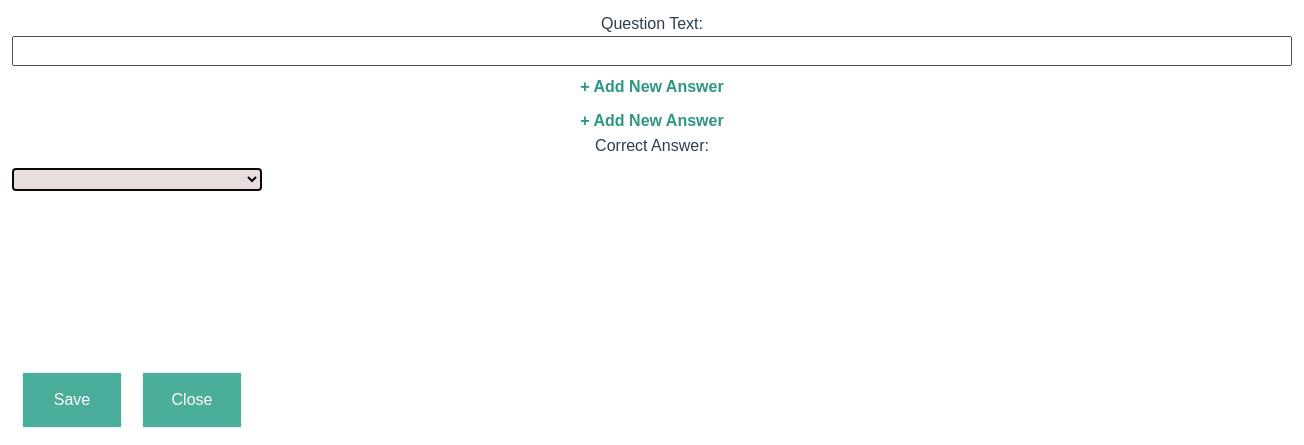
Test case: MultipleChoice.vue › adds answer option
Click the 1st button with class "add-answer": (652, 87) [574,74,730,100]
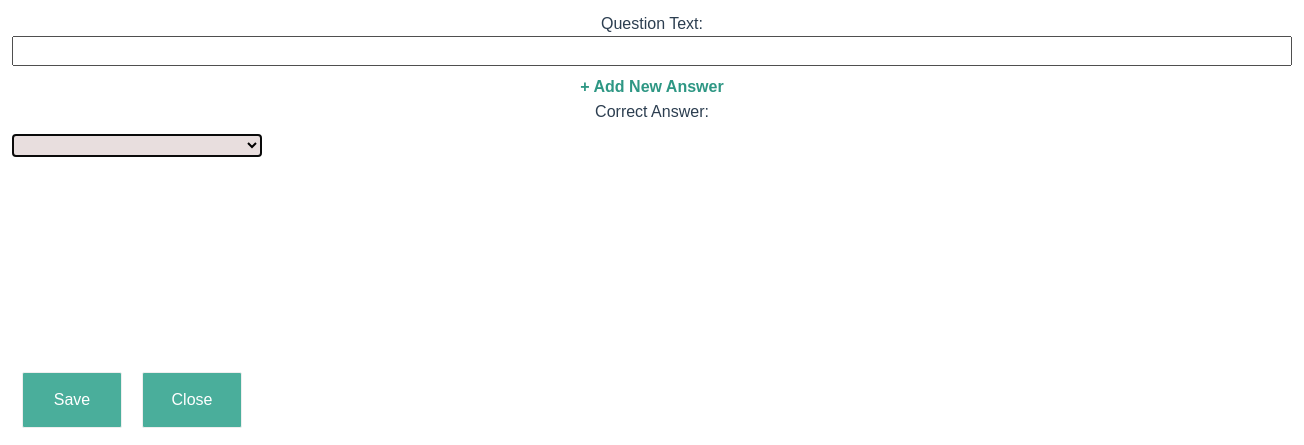
Result: the number of buttons with class "add-answer" is 1 at [574,74,730,100]
